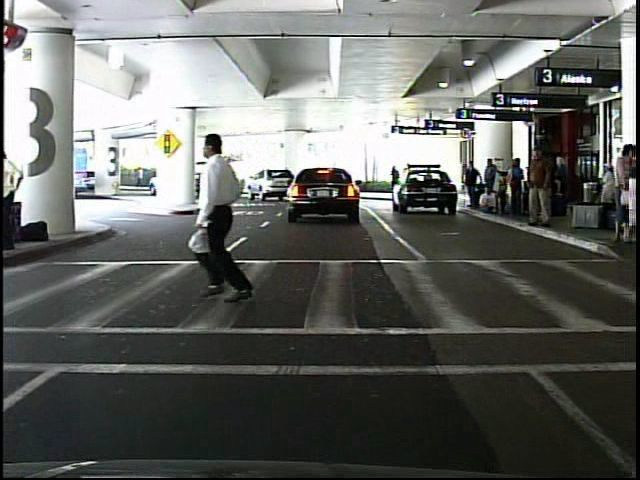person: (183, 130, 265, 310), (523, 143, 556, 230), (463, 160, 482, 210), (389, 163, 403, 200), (134, 163, 146, 189)
